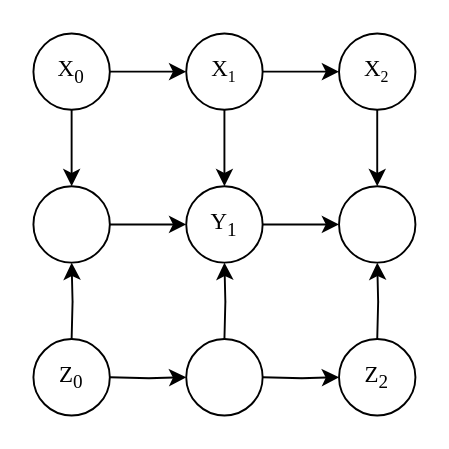
Some shapes in this 449 by 449 pixel diagram are drawn without their labels. The shapes that lost their labels are listed below. From the top down, each one's box as (x1, y1, x2, y2) in pixels, then its label:
(32, 184, 110, 263): Y 0
(337, 184, 415, 263): Y 2
(184, 337, 263, 415): Z 1
